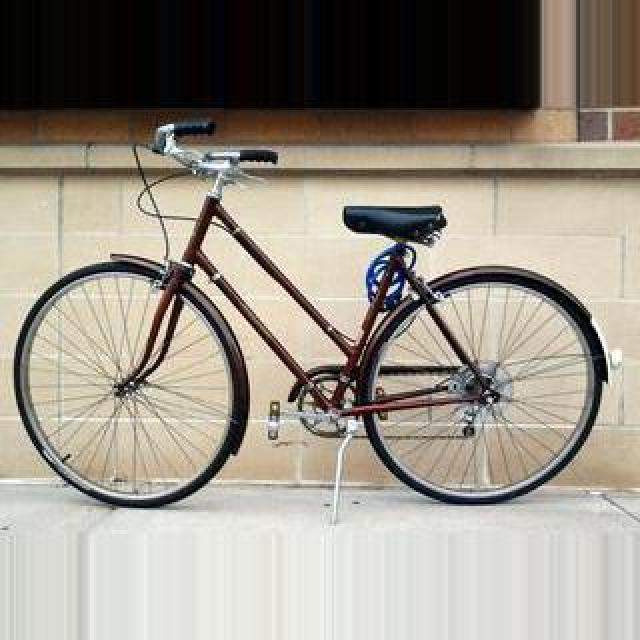Person: (6, 143, 622, 521)
